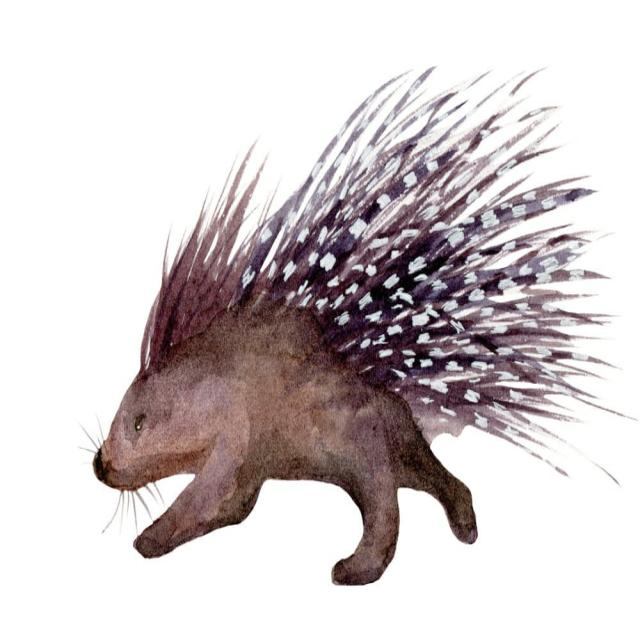Porcupine: (93, 195, 480, 591)
